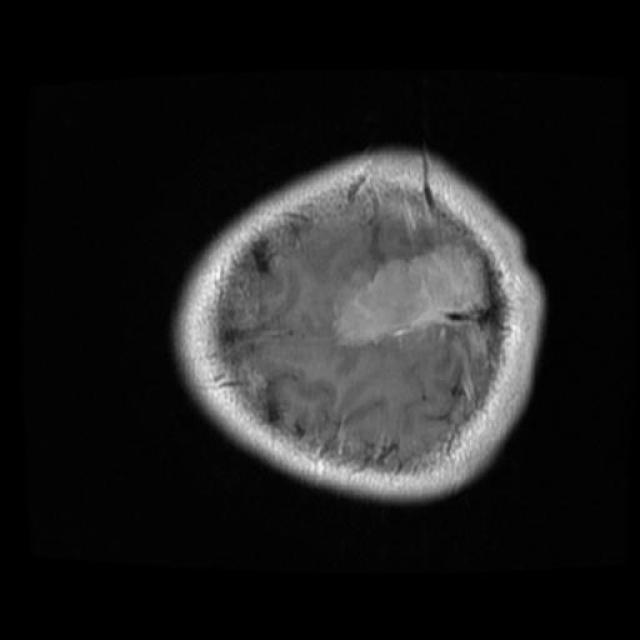Meningioma: (337, 244, 488, 344)
